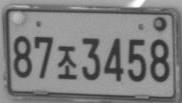3: (81, 37, 101, 80)
4: (103, 38, 124, 81)
5: (127, 38, 147, 82)
7: (34, 35, 53, 79)
8: (149, 38, 170, 82), (12, 34, 32, 77)
조: (56, 45, 77, 79)
